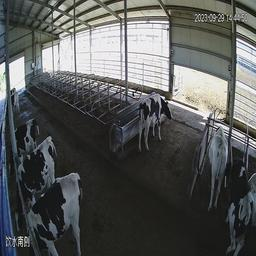cow: (21, 174, 85, 254), (10, 137, 62, 210), (221, 152, 251, 251), (137, 90, 174, 156), (206, 117, 226, 213), (6, 114, 40, 149), (4, 87, 21, 111)
